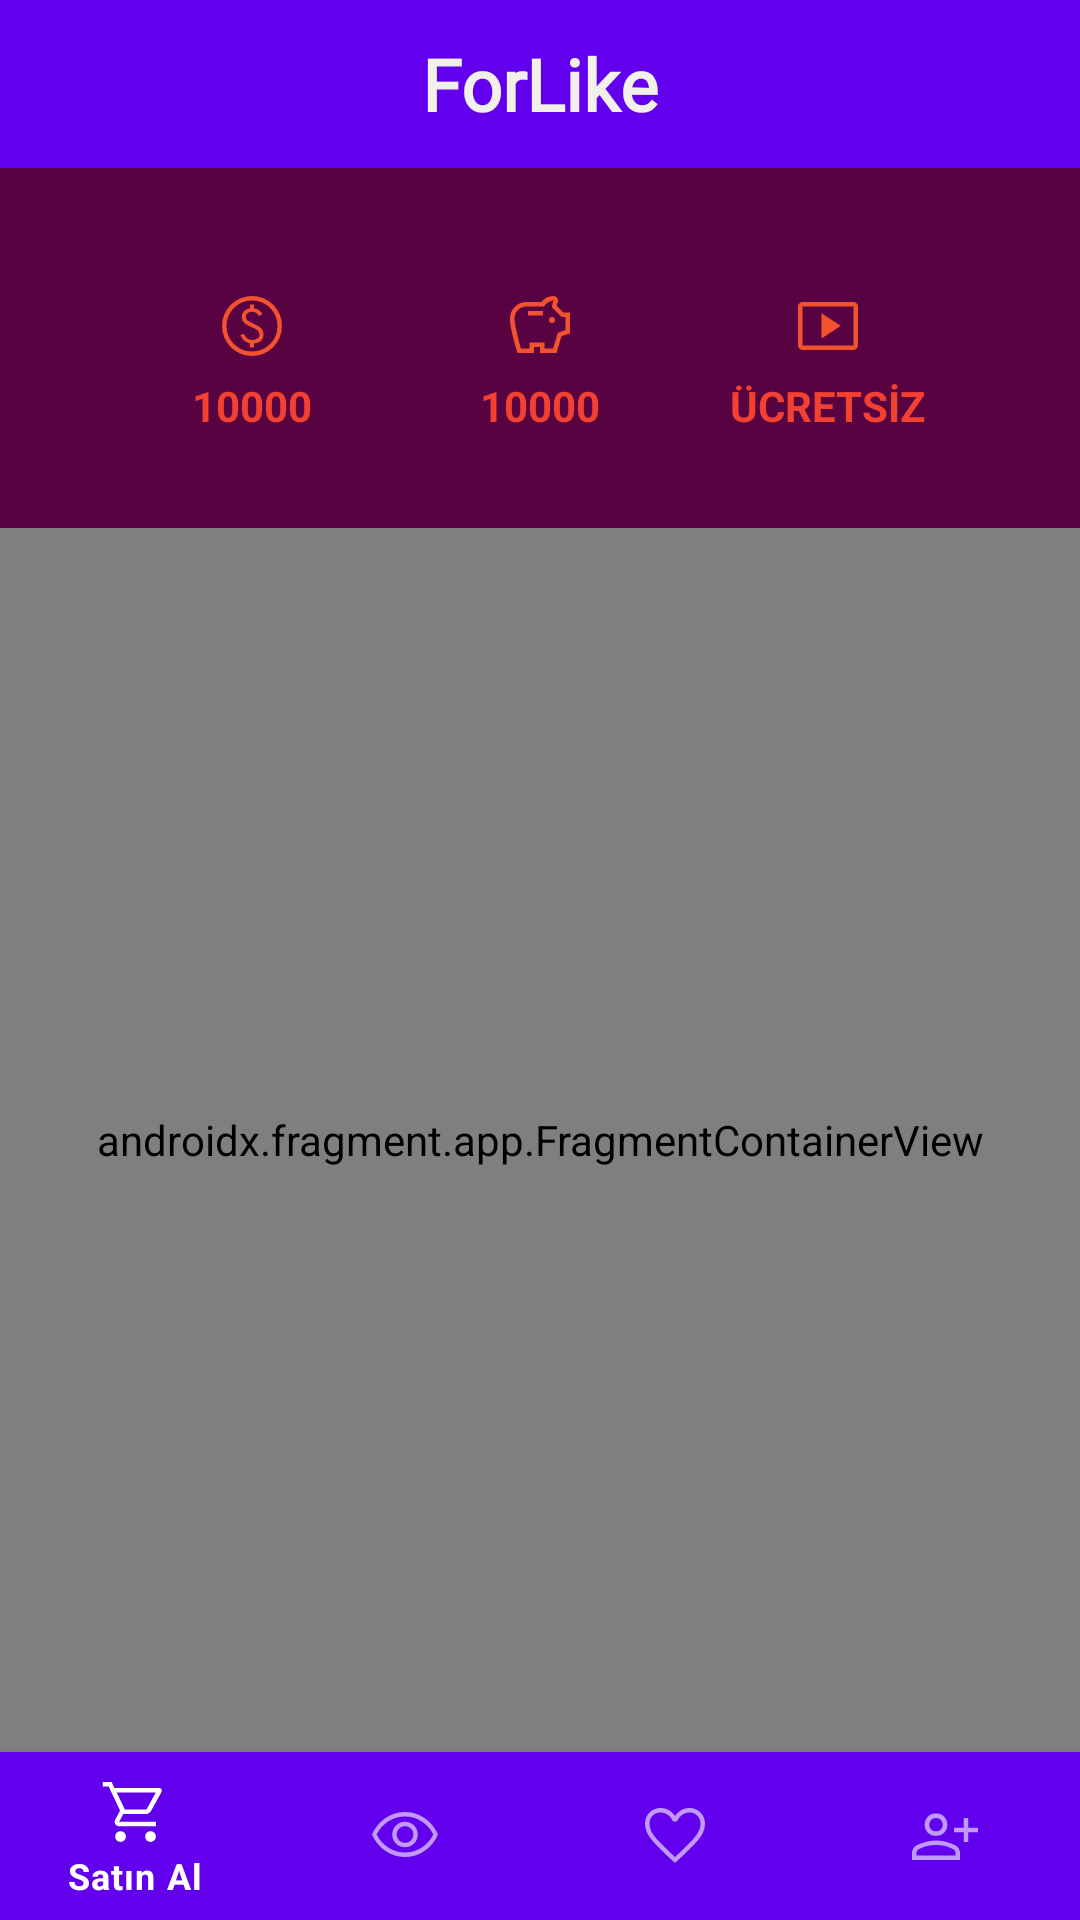

Named icons in this screenshot (1080px×1920px) and their bounding boxes, (x1, y1, x2, y2):
credit: (222, 296, 282, 356)
moneybox: (510, 296, 570, 353)
